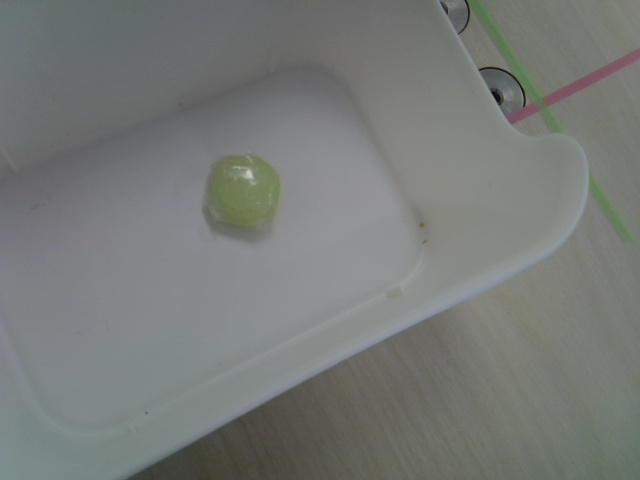씨앗: (204, 152, 284, 228)
